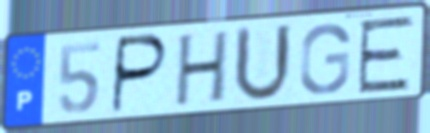5: (56, 39, 103, 116)
E: (354, 12, 417, 95)
G: (296, 21, 352, 97)
H: (172, 27, 232, 110)
P: (108, 32, 172, 116)
U: (230, 22, 294, 106)
